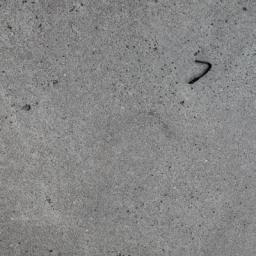FOD: (188, 58, 216, 88)
